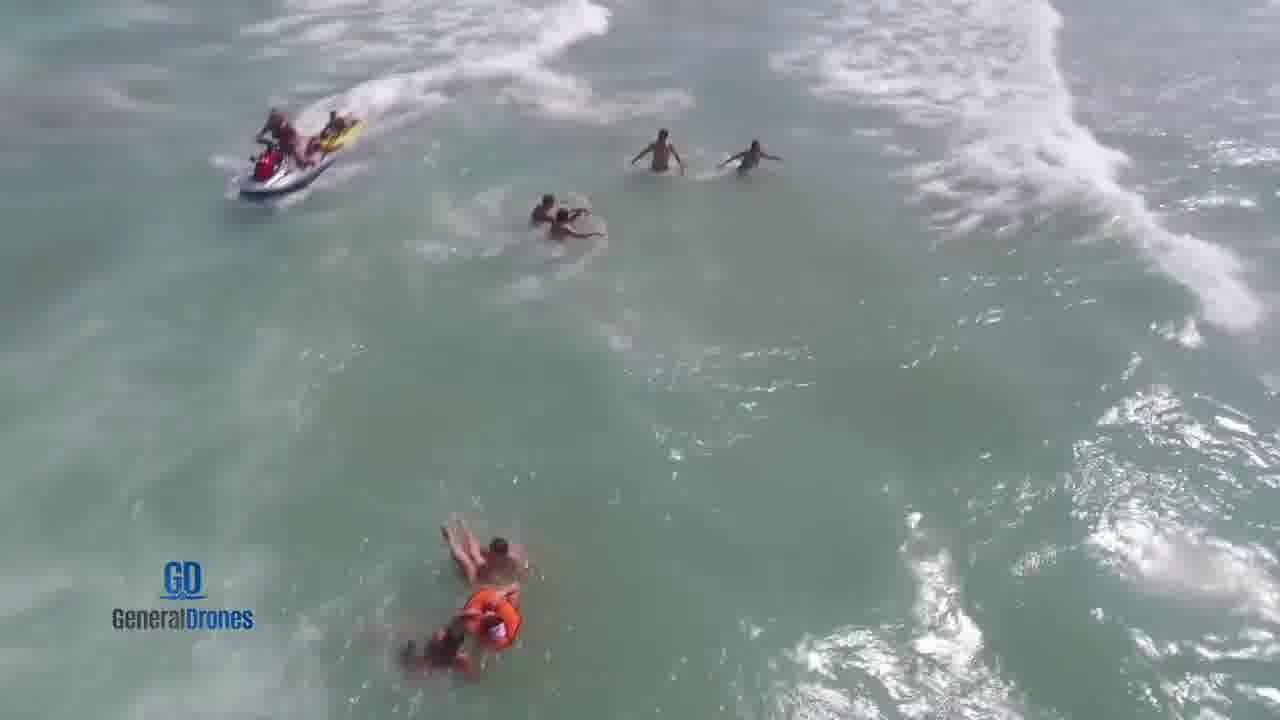swimmer: (436, 512, 525, 636), (398, 615, 489, 680), (474, 518, 555, 584), (547, 201, 617, 248), (514, 183, 576, 221)
